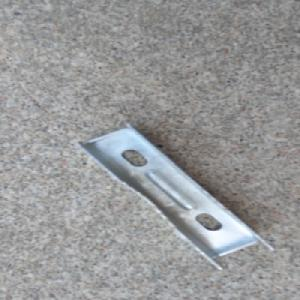ClampPart: (74, 121, 278, 270)
